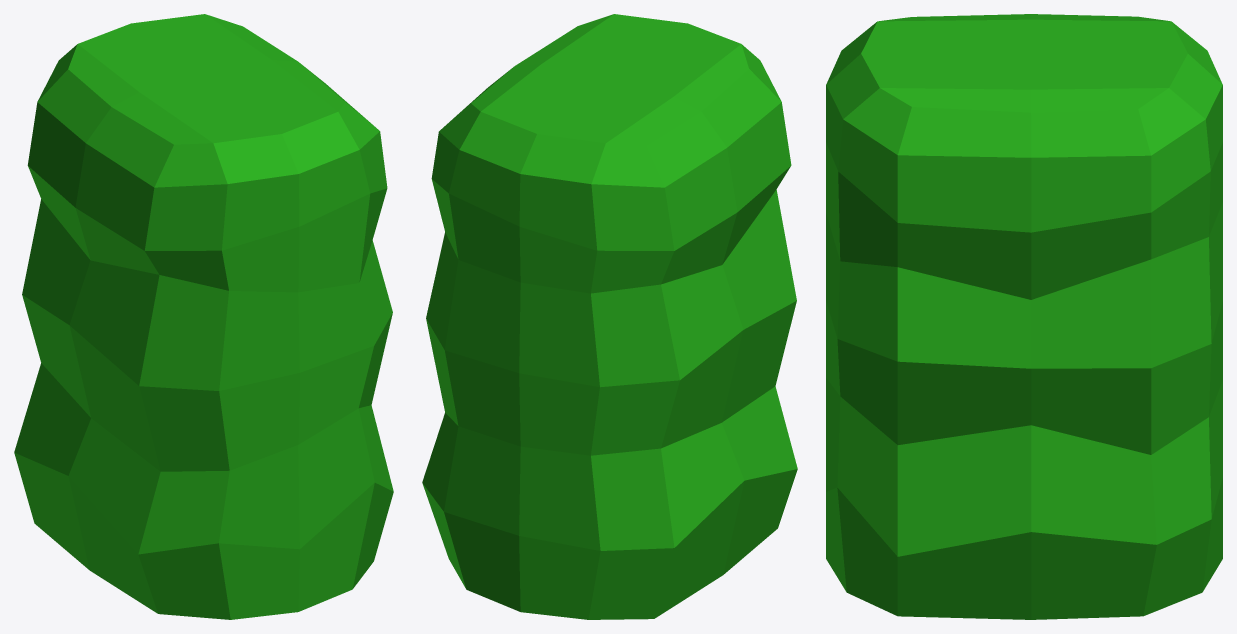
Rendered from Hedge_Short.fbx.
3 renders of one model, left to right at view 1: azimuth 30°, elevation 25°; view 2: azimuth 150°, elevation 25°; view 3: azimuth 270°, elevation 25°, orthographic. The views are drawn at different scales.
Visible parts, largest first — view 1: Short_Hedge; view 2: Short_Hedge; view 3: Short_Hedge.
Boxes of the visible parts, left/top/right/bottom form: Short_Hedge: left=14, top=14, right=393, bottom=619; Short_Hedge: left=422, top=14, right=797, bottom=619; Short_Hedge: left=826, top=14, right=1222, bottom=619.
Size of the model in its own units: 252 by 413 by 294.
